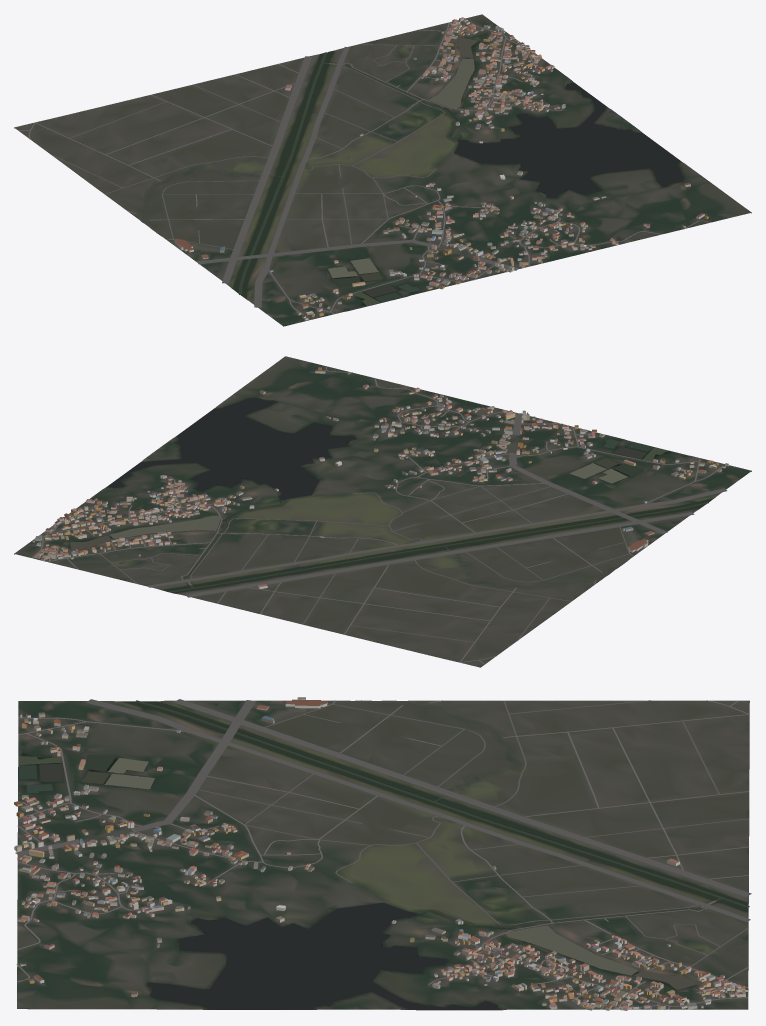
The picture shows the model from 3 angles, top to bottom: view 1: azimuth 30°, elevation 25°; view 2: azimuth 150°, elevation 25°; view 3: azimuth 270°, elevation 25°; orthographic projection. The views are drawn at different scales.
Parts seen in each view (by area): view 1: ground, water, roads, buildings; view 2: ground, water, roads, buildings; view 3: ground, water, buildings, roads.
Boxes of the visible parts, box(x1,y1,x2,y2) form: ground: box(14, 14, 751, 326); water: box(137, 37, 684, 310); roads: box(18, 22, 710, 320); buildings: box(174, 17, 708, 320); ground: box(14, 356, 751, 667); water: box(70, 397, 713, 593); roads: box(32, 366, 727, 664); buildings: box(32, 367, 728, 588); ground: box(17, 700, 749, 1010); water: box(18, 700, 749, 1009); buildings: box(14, 697, 748, 1010); roads: box(15, 699, 751, 1009).
Size of the model in its own units: 1414 by 15.36 by 1415.
